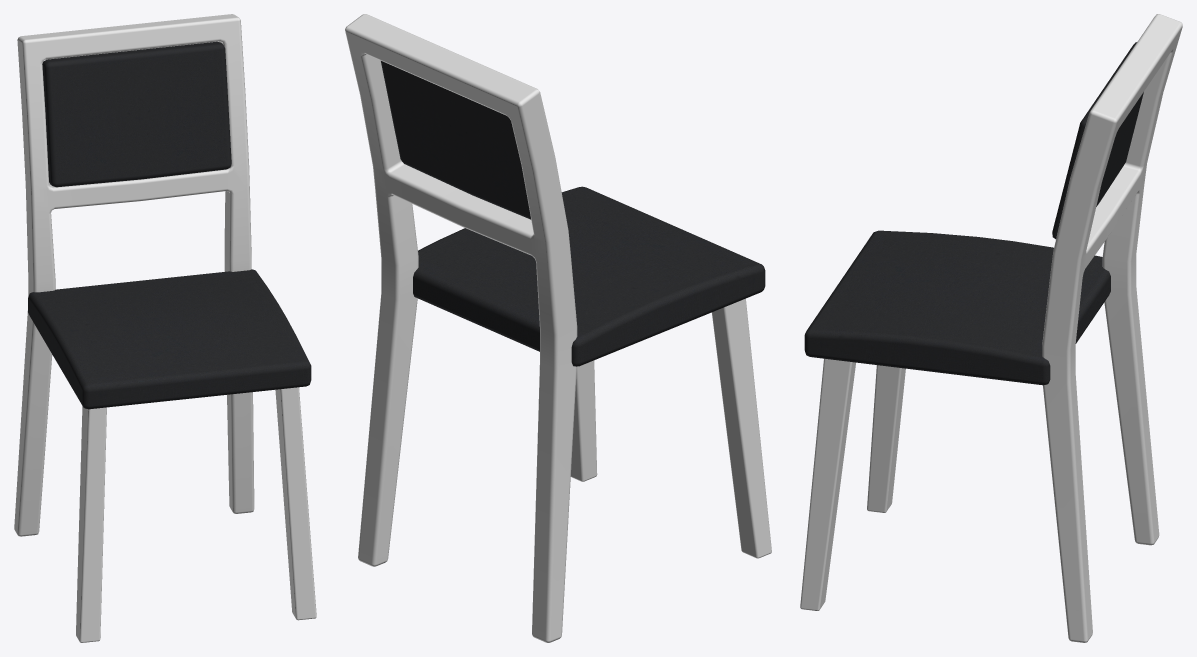
File: black_chair_1.glb
3 renders of one model, left to right at view 1: azimuth 30°, elevation 25°; view 2: azimuth 150°, elevation 25°; view 3: azimuth 270°, elevation 25°, orthographic. The views are drawn at different scales.
Visible parts, largest first — view 1: Chair, Plane.029, Plane.030, Plane.027; view 2: Plane.029, Chair, Plane.030, Plane.027; view 3: Plane.029, Chair, Plane.027, Plane.030.
Boxes of the visible parts, x1,y1,x2,y2 form: Chair: (28,269,311,409); Plane.029: (14,14,254,536); Plane.030: (42,41,231,187); Plane.027: (76,387,316,642); Plane.029: (345,14,577,642); Chair: (413,186,765,366); Plane.030: (381,61,530,219); Plane.027: (570,298,771,558); Plane.029: (1042,14,1182,642); Chair: (804,230,1110,385); Plane.027: (800,358,905,610); Plane.030: (1052,42,1143,239).
Bounding box in the file's own units: 1.24 × 2.16 × 1.41.
2 materials, 1 textured.
